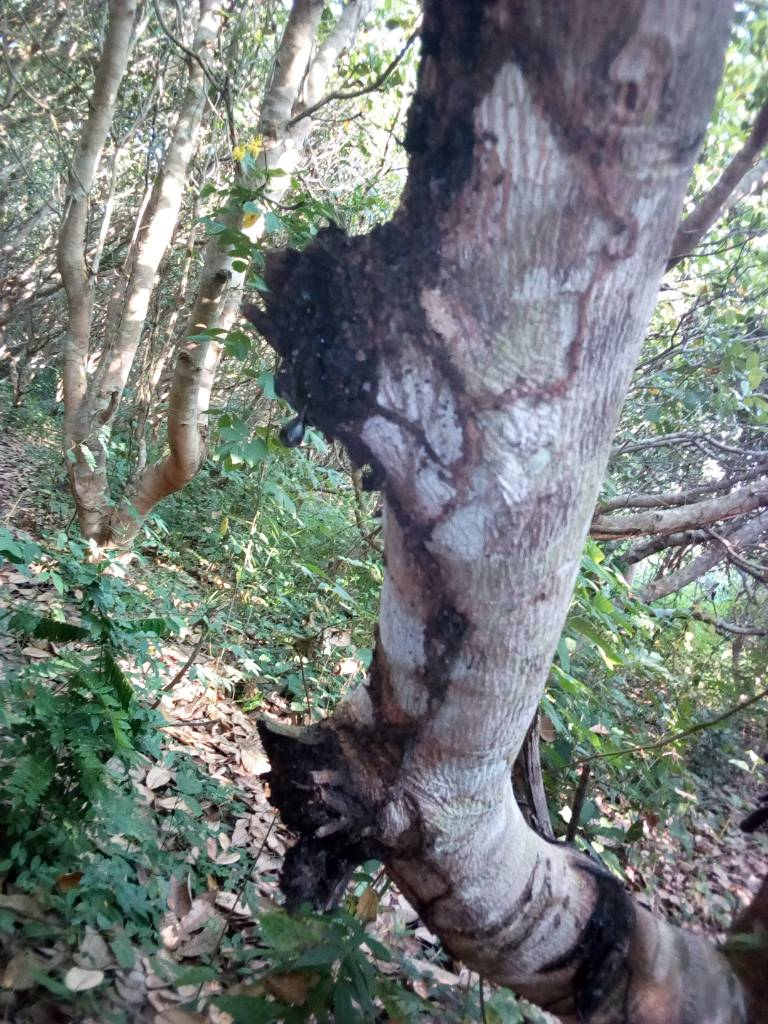Termites: (533, 171, 640, 405)
